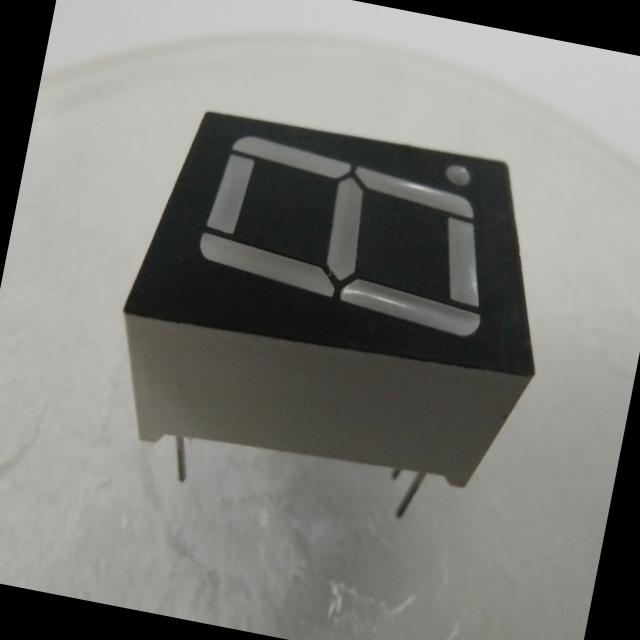7_segments: (82, 65, 594, 558)
